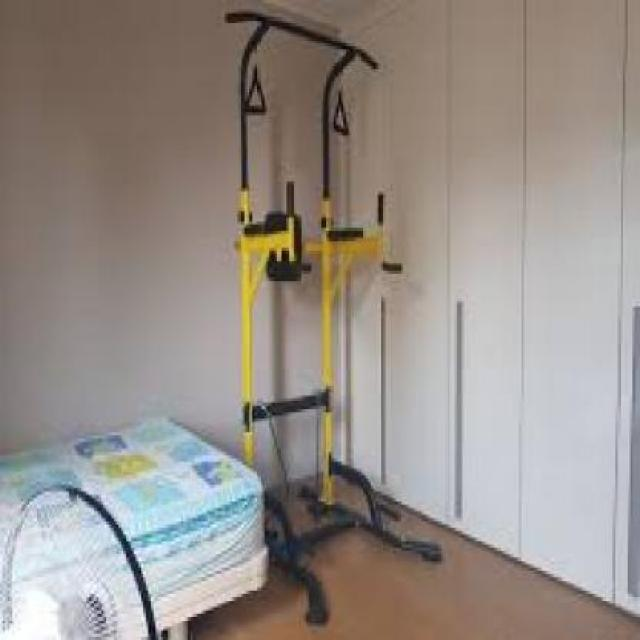chinning dipping: (225, 3, 444, 626)
